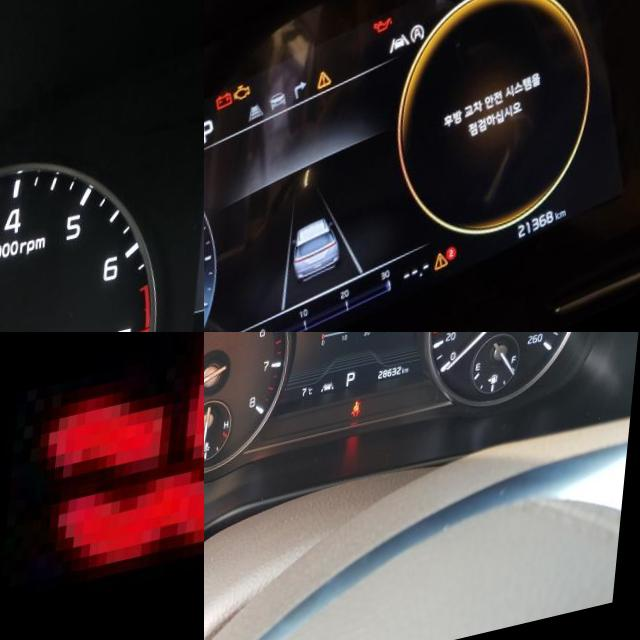Central Warning lamp: (318, 78, 338, 102), (440, 266, 460, 290)
Engine cooling system: (28, 332, 204, 590)
LaneCenteringOff: (391, 46, 415, 68)
